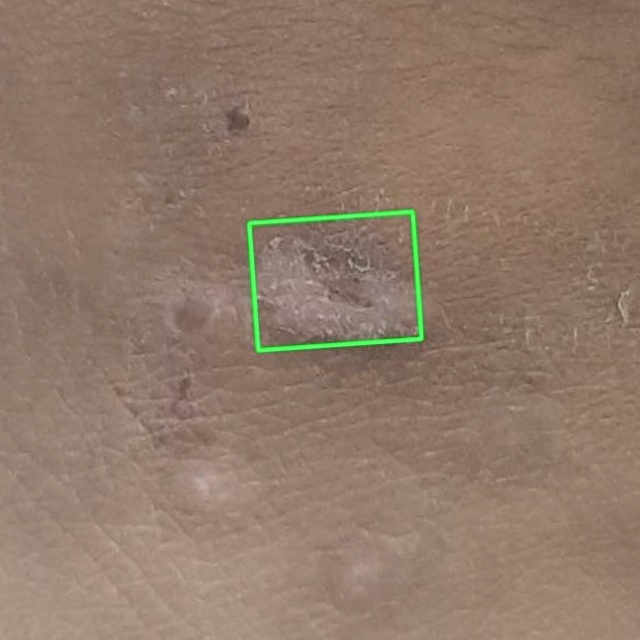Eczema: (249, 211, 421, 350)
